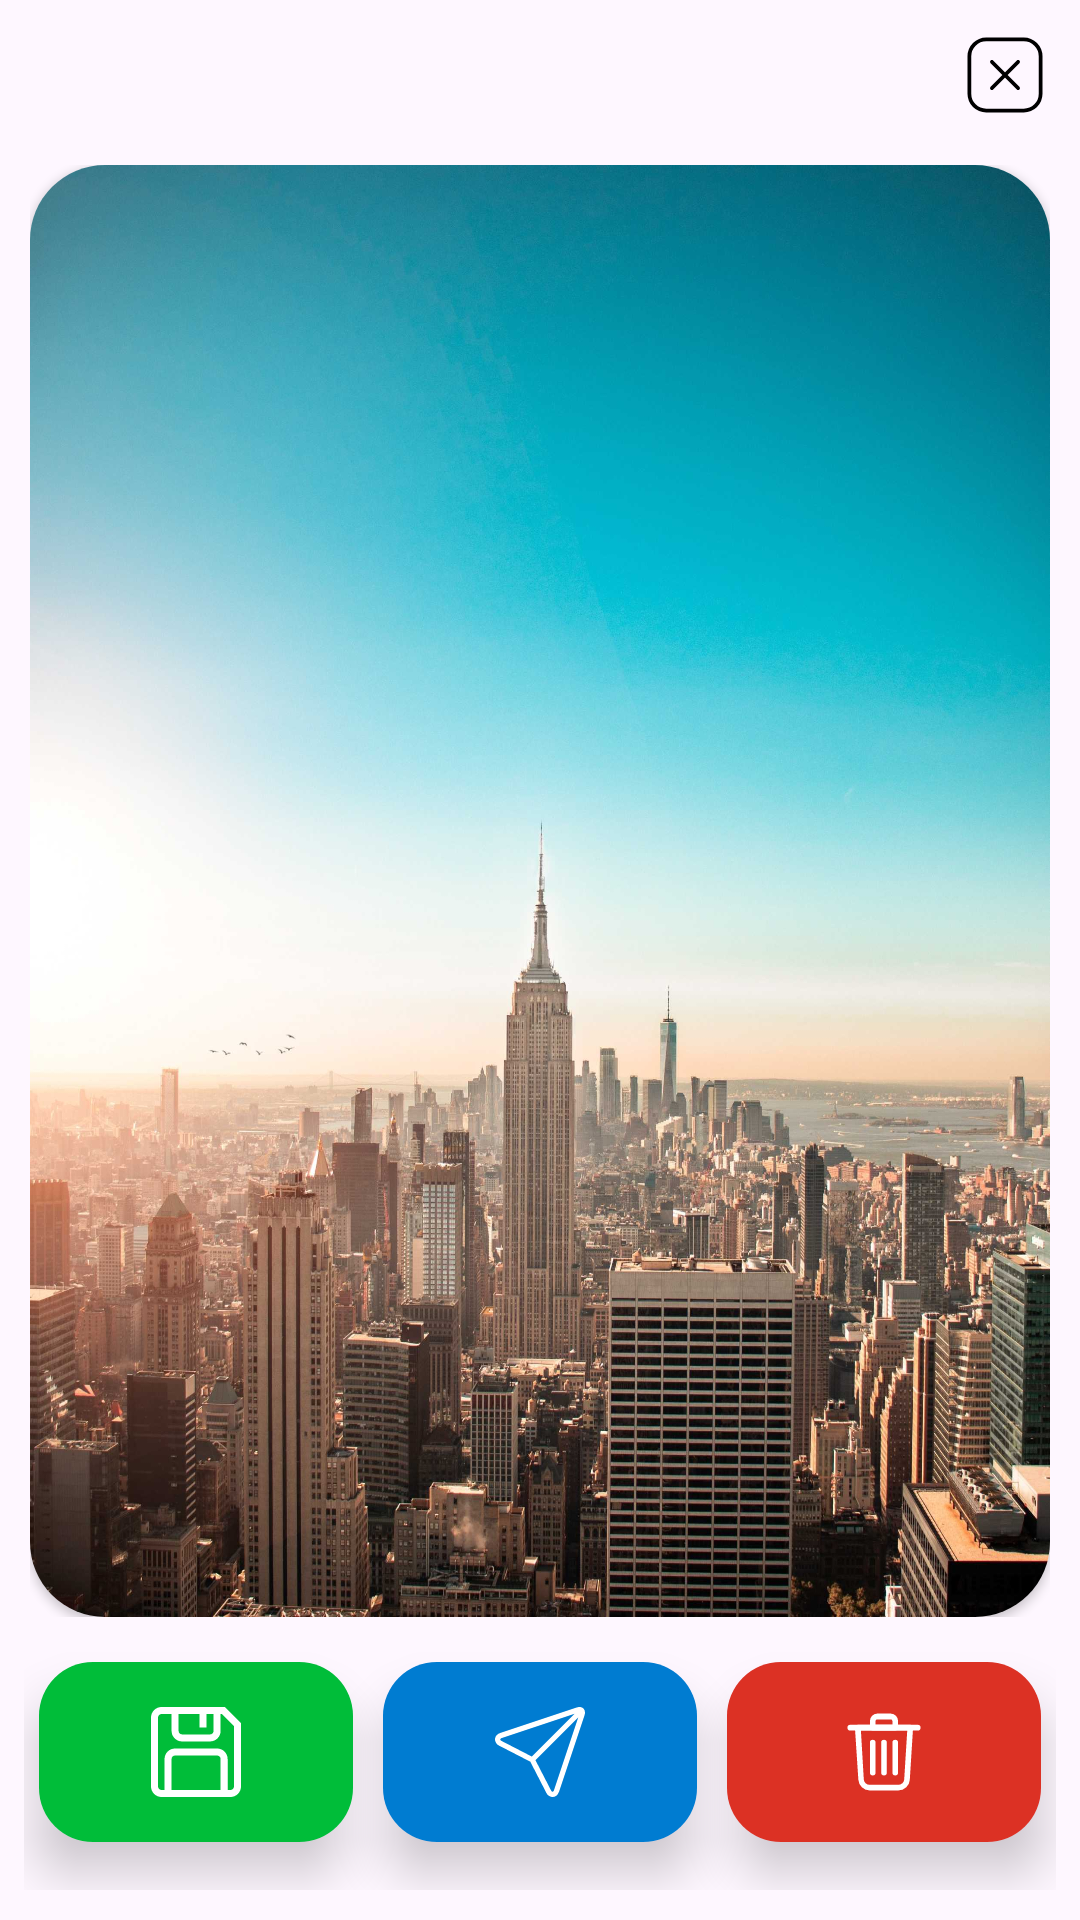

Icon bounding boxes for this 1080 x 1920 phone screenshot, format (x1, y1, x2, y2):
close: (967, 37, 1043, 113)
delete: (847, 1713, 921, 1791)
save: (151, 1707, 241, 1797)
send: (495, 1707, 585, 1797)
